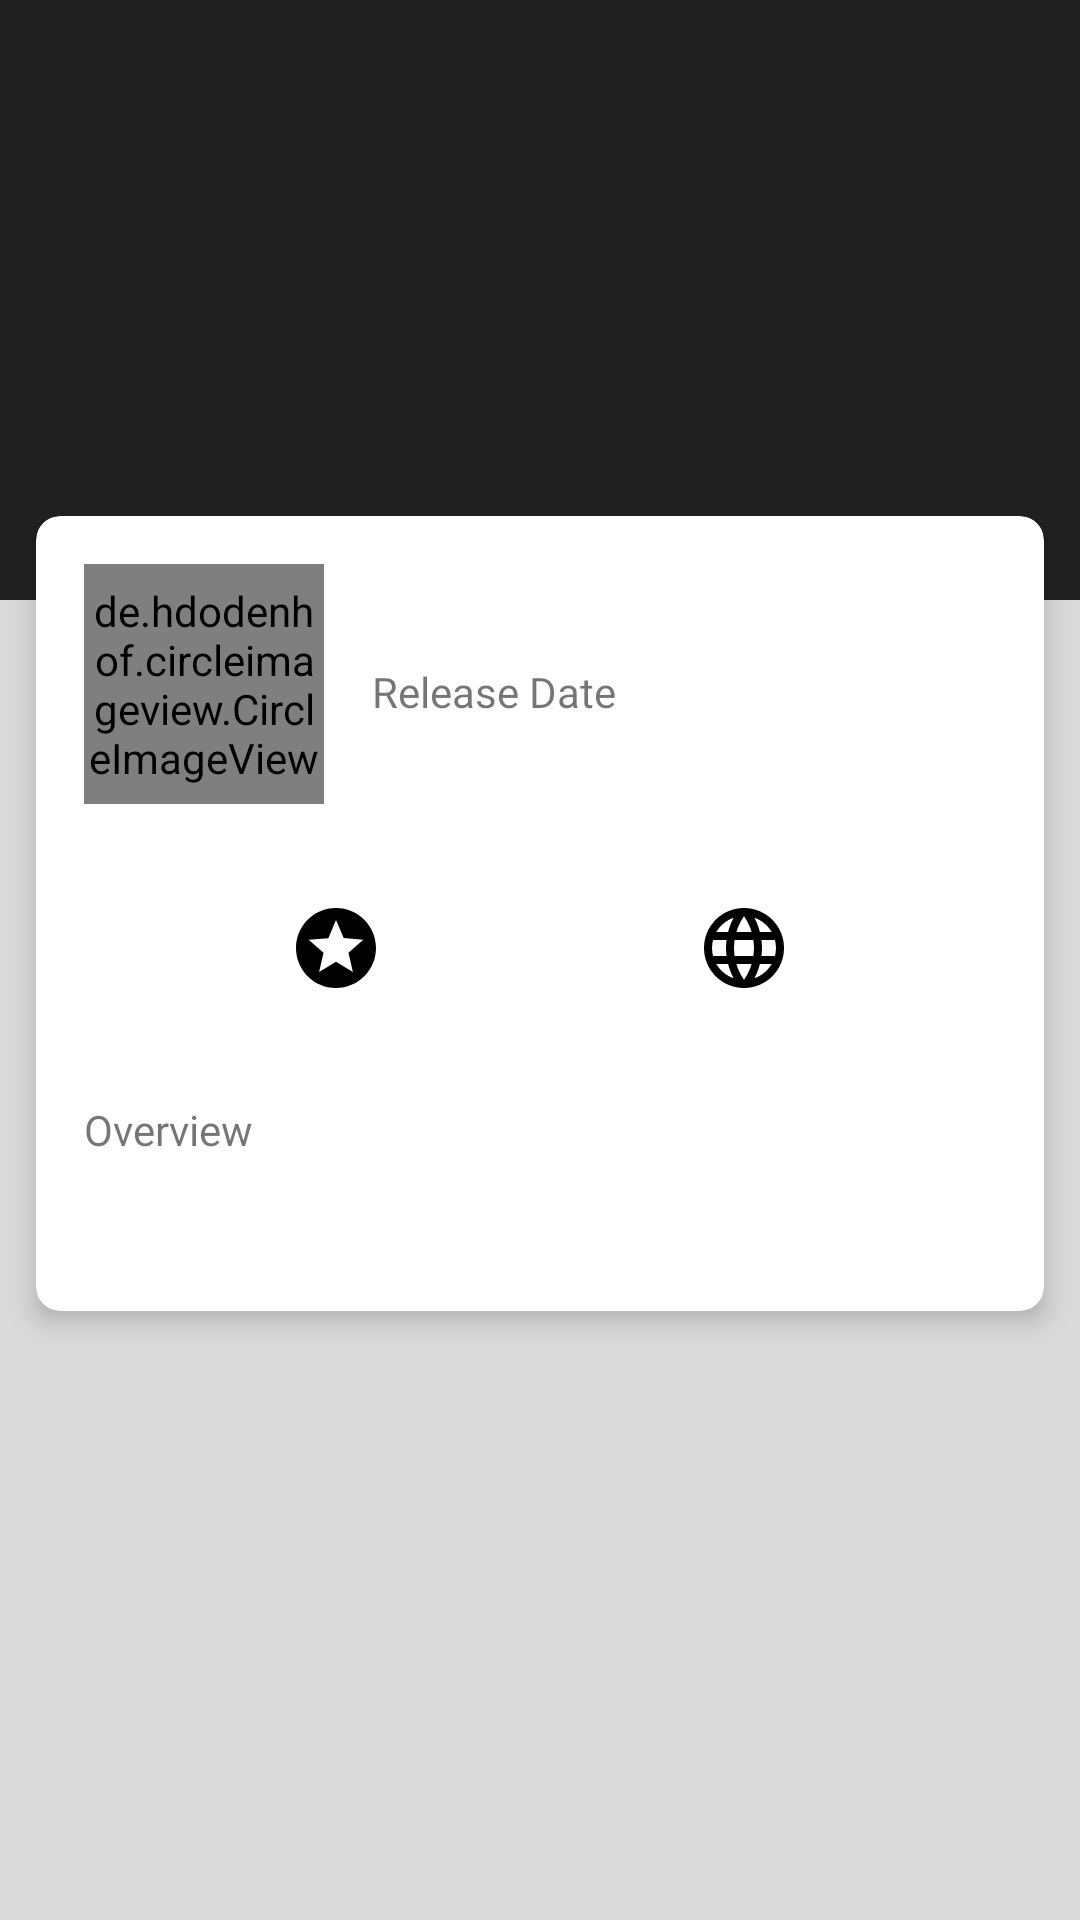

Screen size 1080 x 1920. Icon name, then its center in pixels as (x,y):
language: (744,948)
stars: (336,948)
